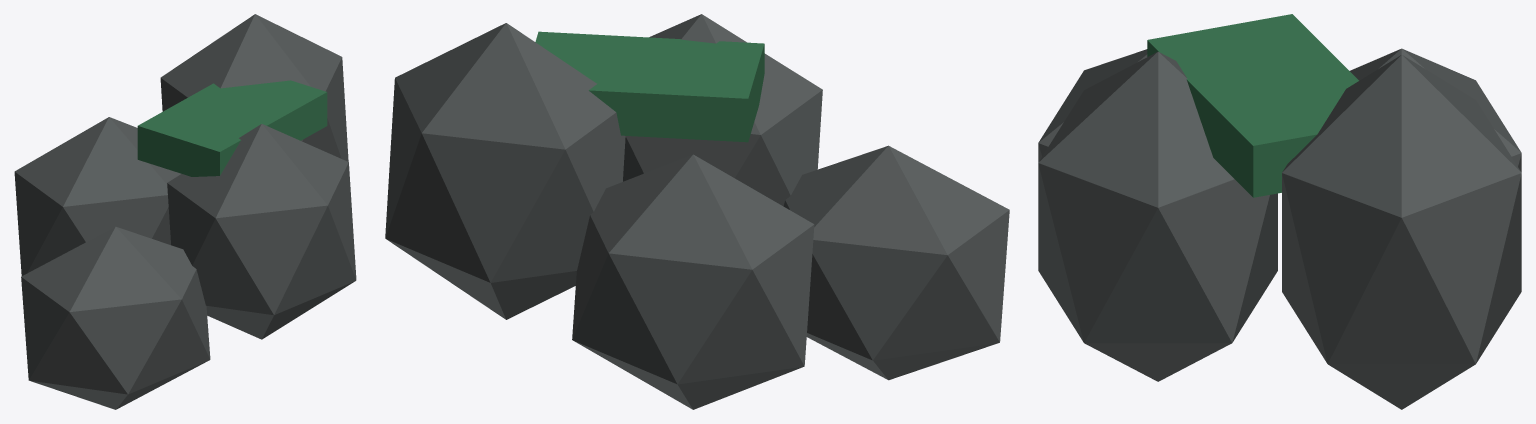
File: df_rock_cluster_a.glb
3 renders of one model, left to right at view 1: azimuth 30°, elevation 25°; view 2: azimuth 150°, elevation 25°; view 3: azimuth 270°, elevation 25°, orthographic. The views are drawn at different scales.
Parts seen in each view (by area): view 1: rock_2, rock_0, rock_1, moss_patch, rock_3; view 2: rock_3, rock_1, rock_0, moss_patch, rock_2; view 3: rock_3, rock_2, moss_patch, rock_1, rock_0.
Boxes of the visible parts, left/top/right/bottom form: rock_2: left=167, top=124, right=356, bottom=339; rock_0: left=21, top=226, right=210, bottom=409; rock_1: left=14, top=117, right=181, bottom=275; moss_patch: left=137, top=80, right=327, bottom=176; rock_3: left=160, top=14, right=348, bottom=161; rock_3: left=385, top=23, right=625, bottom=319; rock_1: left=572, top=154, right=814, bottom=409; rock_0: left=783, top=145, right=1009, bottom=380; moss_patch: left=535, top=31, right=764, bottom=142; rock_2: left=623, top=14, right=822, bottom=206; rock_3: left=1282, top=55, right=1521, bottom=409; rock_2: left=1038, top=51, right=1277, bottom=381; moss_patch: left=1147, top=14, right=1358, bottom=197; rock_1: left=1350, top=48, right=1521, bottom=172; rock_0: left=1038, top=49, right=1147, bottom=162.
Size of the model in its own units: 0.9693 by 0.6696 by 0.6748.
